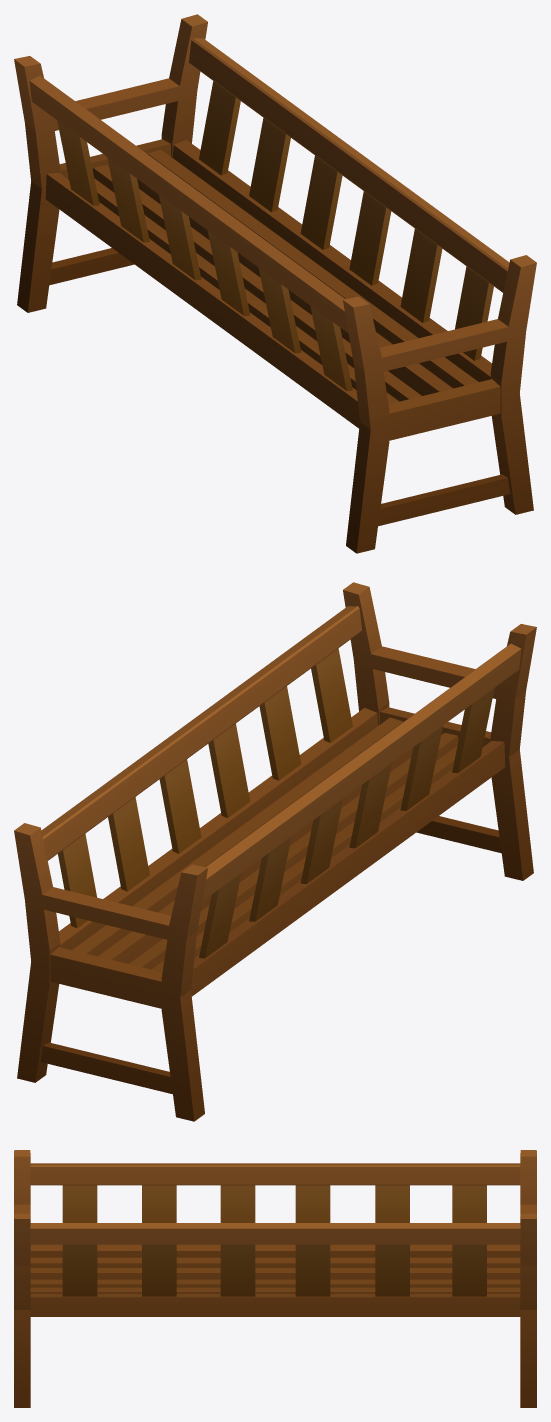
File: Park_Bench004.fbx
3 renders of one model, top to bottom at view 1: azimuth 30°, elevation 25°; view 2: azimuth 150°, elevation 25°; view 3: azimuth 270°, elevation 25°, orthographic. The views are drawn at different scales.
Parts seen in each view (by area): view 1: Park_Bench004; view 2: Park_Bench004; view 3: Park_Bench004.
Part boxes in pixels (<box>): Park_Bench004: <box>14,14,536,553</box>; Park_Bench004: <box>14,582,536,1121</box>; Park_Bench004: <box>14,1150,536,1407</box>.
Size of the model in its own units: 47.09 by 151 by 60.51.
Materials: 1 (1 with a texture image).
